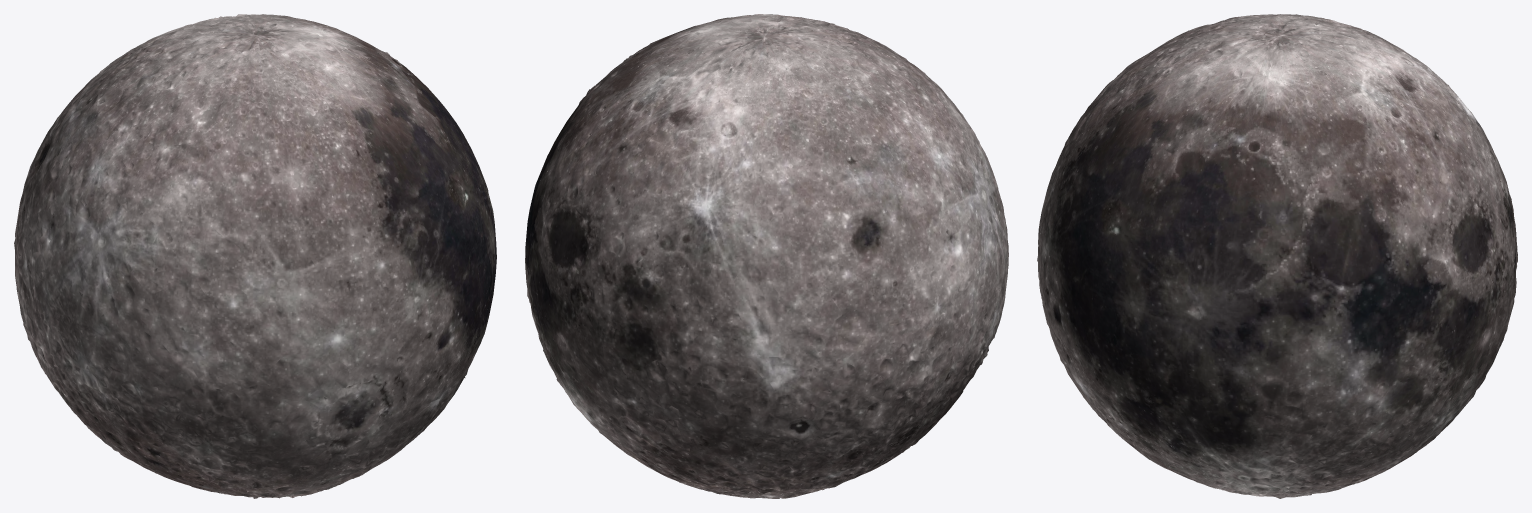
Rendered from moon.glb.
3 views of the same model, side by side, from view 1: azimuth 30°, elevation 25°; view 2: azimuth 150°, elevation 25°; view 3: azimuth 270°, elevation 25° (orthographic).
Visible parts, largest first — view 1: Sphere; view 2: Sphere; view 3: Sphere.
Part boxes in pixels (left/top/right/bottom): Sphere: left=14, top=14, right=496, bottom=498; Sphere: left=525, top=14, right=1008, bottom=498; Sphere: left=1037, top=14, right=1517, bottom=498.
Size of the model in its own units: 1.97 by 1.99 by 1.97.
1 material, 1 textured.
